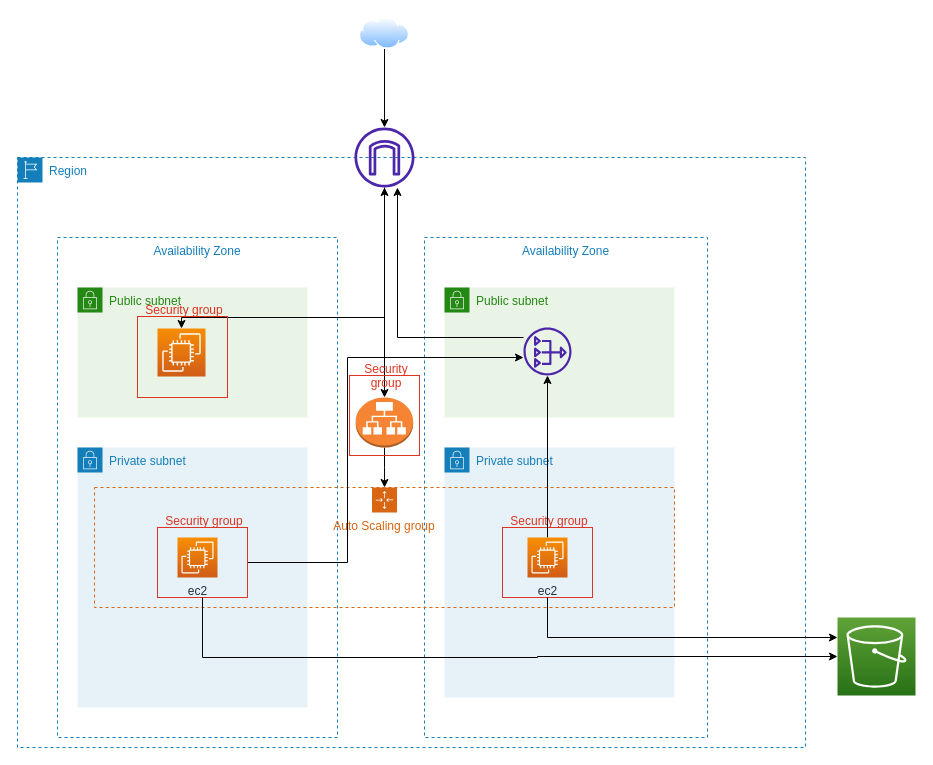
The diagram is 933 pixels wide and 765 high, and some of its shapes have lost their labels. The shapes that lost their labels are listed below. From the top down, each one's centre as x and y in pixels, then its label:
pixel 384 32: Internet
pixel 181 352: bastion
pixel 547 351: NAT gateway
pixel 384 422: ALB
pixel 876 656: S3 Bucket
